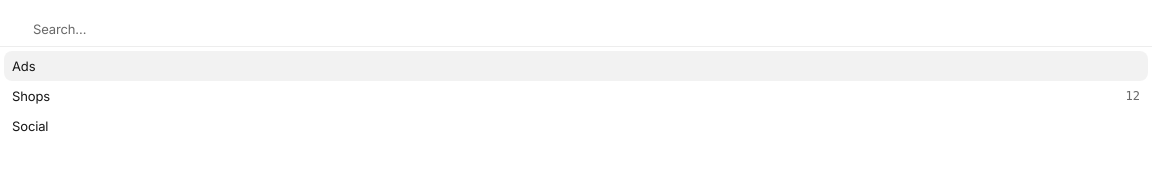
Test: Combobox › says "No results" as a status outside the listbox
Type "zzz" into the dropdown named "Folder" at (586, 29), box [33,12,1140,46]
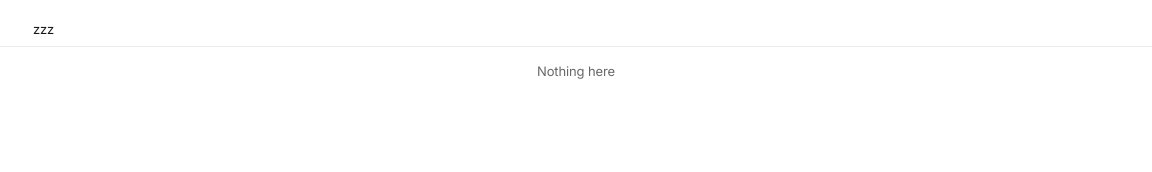
Check: the list is gone
Check: the dropdown named "Folder" is collapsed, box [33,12,1140,46]
Check: the message reads "Nothing here", box [537,63,615,79]
